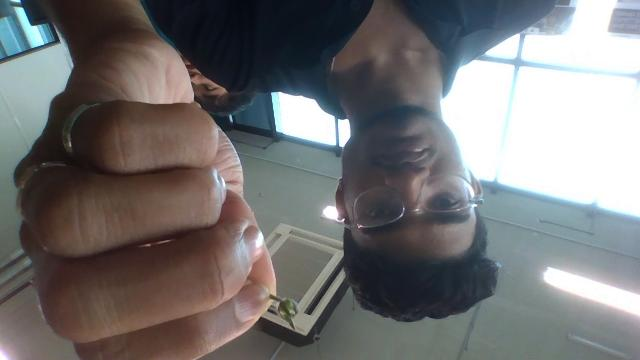Fruit Bud: (275, 297, 299, 331)
